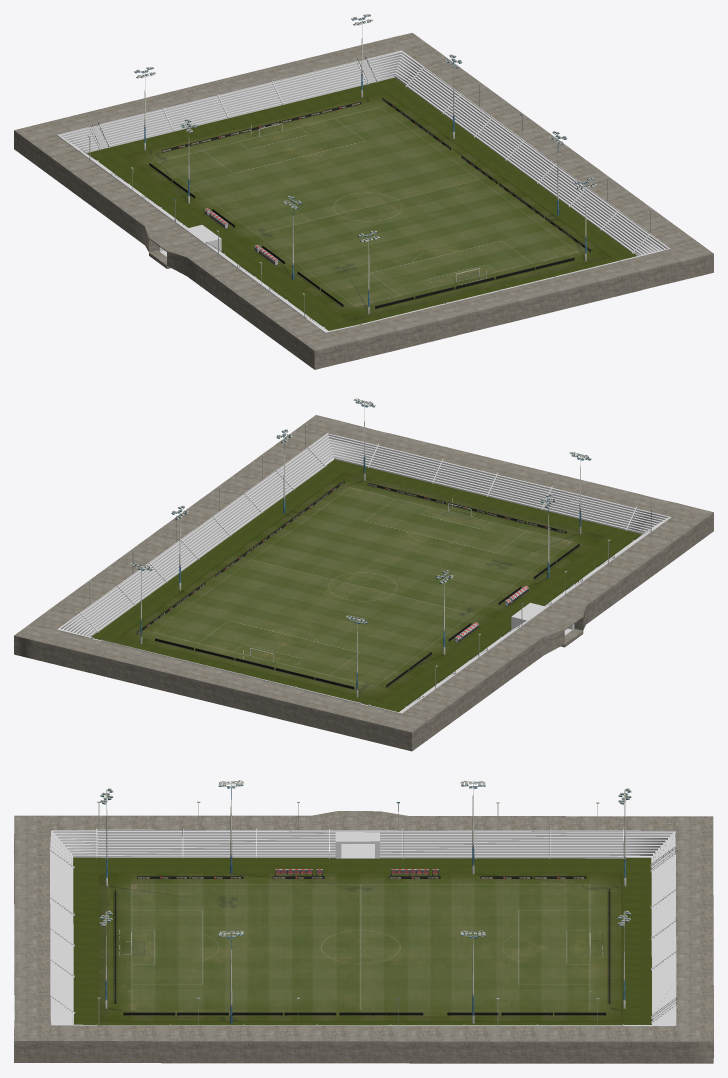
File: SoccerField.fbx
The picture shows the model from 3 angles, top to bottom: view 1: azimuth 30°, elevation 25°; view 2: azimuth 150°, elevation 25°; view 3: azimuth 270°, elevation 25°; orthographic projection. The views are drawn at different scales.
Visible parts, largest first — view 1: field, outside, seats_1_2, field_2, lights; view 2: field, outside, seats_1_2, field_2, lights; view 3: field, outside, seats_1_2, field_2, lights, Cube, Cube_1.
Part boxes in pixels (bbox=[...]): field: bbox=[124, 92, 611, 321]; outside: bbox=[14, 33, 713, 369]; seats_1_2: bbox=[57, 50, 670, 332]; field_2: bbox=[87, 77, 636, 330]; lights: bbox=[134, 14, 596, 314]; field: bbox=[119, 472, 605, 701]; outside: bbox=[14, 415, 713, 751]; seats_1_2: bbox=[57, 432, 671, 713]; field_2: bbox=[91, 459, 641, 712]; lights: bbox=[130, 398, 591, 697]; field: bbox=[99, 873, 622, 1021]; outside: bbox=[14, 811, 713, 1063]; seats_1_2: bbox=[49, 828, 676, 1026]; field_2: bbox=[73, 857, 652, 1025]; lights: bbox=[99, 780, 631, 1023]; Cube: bbox=[335, 832, 379, 858]; Cube_1: bbox=[341, 844, 374, 858].
Size of the model in its own units: 1684 by 1313 by 263.
Materials: 15 (12 with a texture image).
